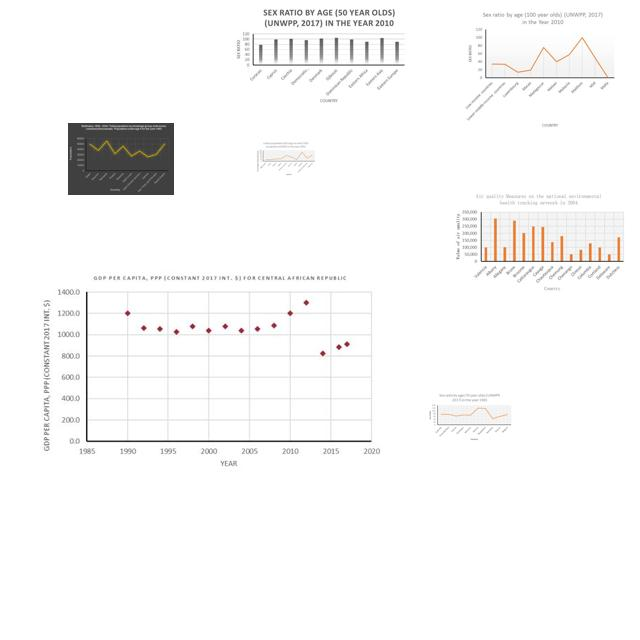Graph: (36, 271, 388, 477), (463, 8, 616, 129), (451, 190, 628, 293), (232, 4, 407, 103), (68, 123, 174, 195), (427, 392, 512, 442), (256, 141, 316, 176)
